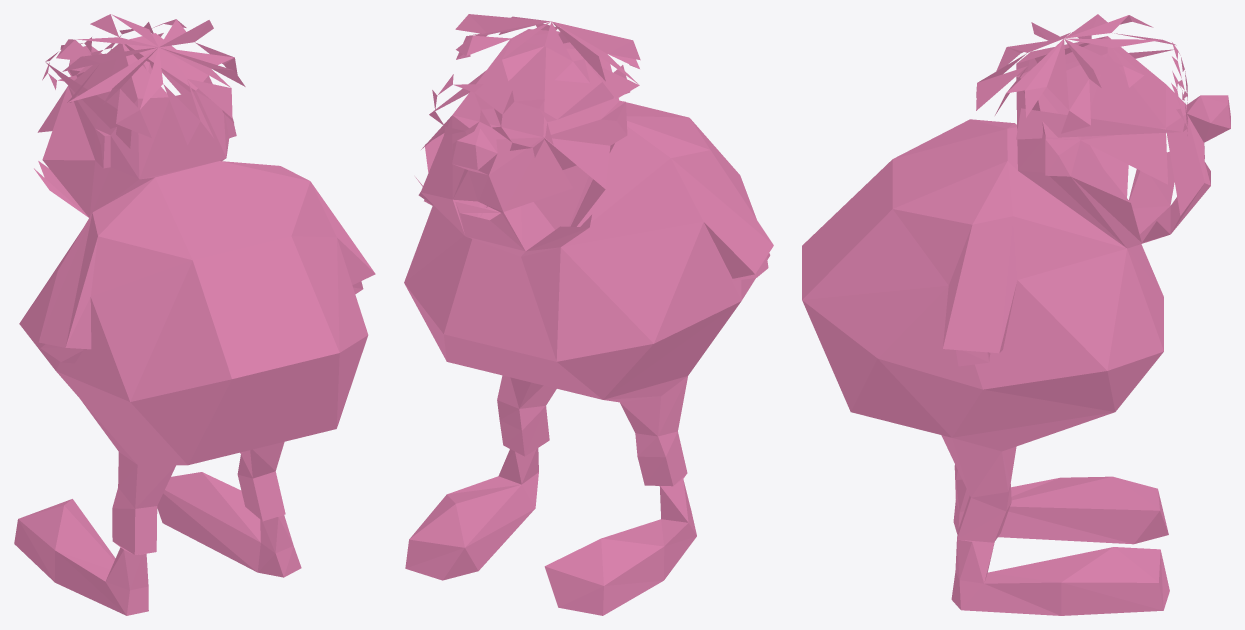
Rendered from carlstop.glb.
3 views of the same model, side by side, from view 1: azimuth 30°, elevation 25°; view 2: azimuth 150°, elevation 25°; view 3: azimuth 270°, elevation 25° (orthographic). The views are drawn at different scales.
Parts seen in each view (by area): view 1: carlstop; view 2: carlstop; view 3: carlstop.
Part boxes in pixels (box(x1,y1,x2,y2)): carlstop: box(14, 14, 375, 615); carlstop: box(404, 14, 773, 615); carlstop: box(802, 14, 1230, 615).
Bounding box in the file's own units: 122 × 189 × 138.
